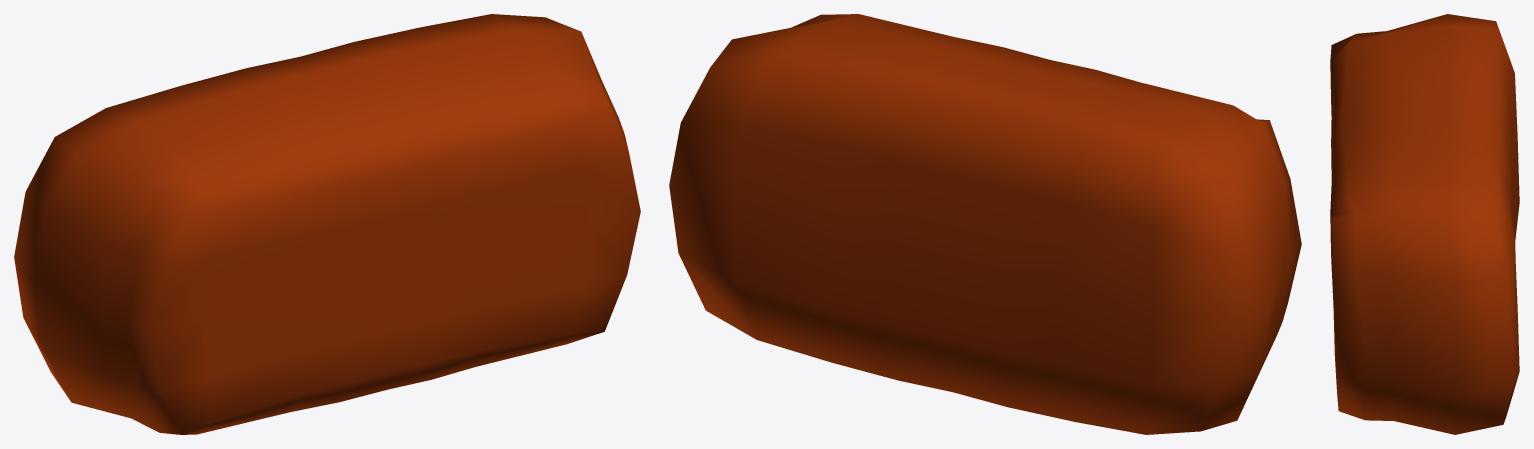
Rendered from Body3.dae.
3 renders of one model, left to right at view 1: azimuth 30°, elevation 25°; view 2: azimuth 150°, elevation 25°; view 3: azimuth 270°, elevation 25°, orthographic. The views are drawn at different scales.
Parts seen in each view (by area): view 1: Body3; view 2: Body3; view 3: Body3.
Part boxes in pixels (x1=…): Body3: x1=14, y1=14, x2=640, y2=434; Body3: x1=669, y1=14, x2=1301, y2=434; Body3: x1=1330, y1=14, x2=1519, y2=434.
Size of the model in its own units: 0.3009 by 0.1011 by 0.148.
